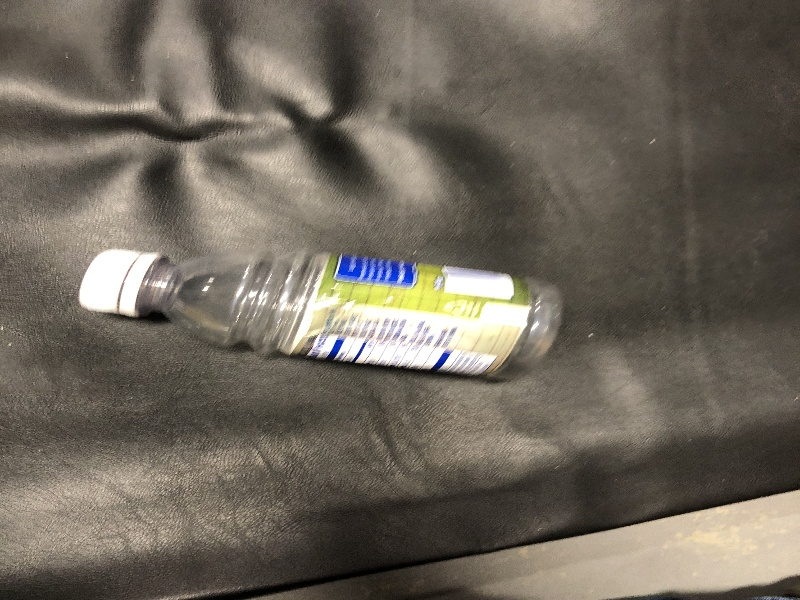plastic: (70, 227, 576, 399)
